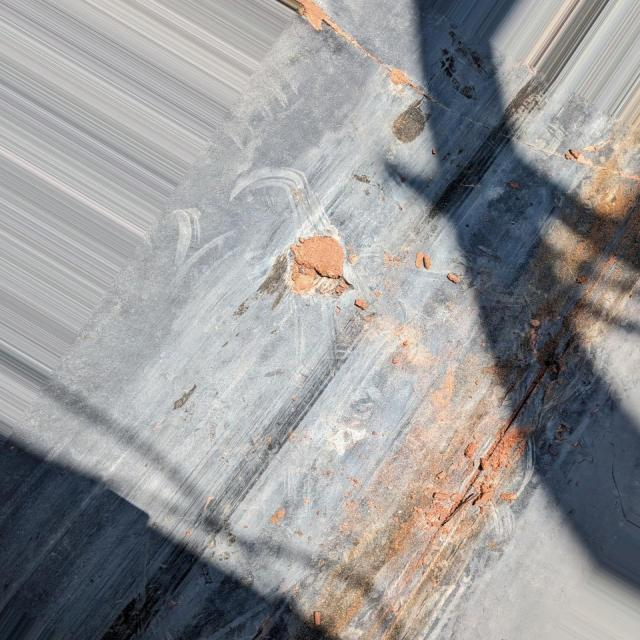Wear: (279, 149, 640, 640)
